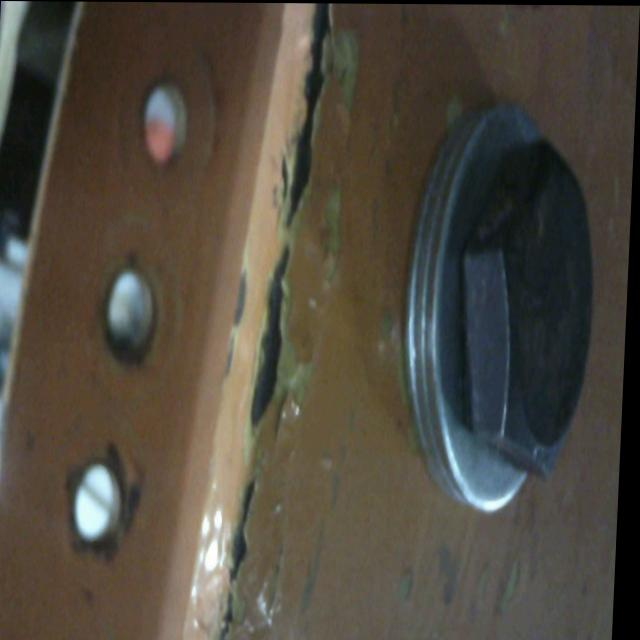Missing bolt: (104, 268, 161, 364), (72, 464, 130, 558), (136, 83, 191, 168)
Rusty bolt: (402, 103, 605, 517)
